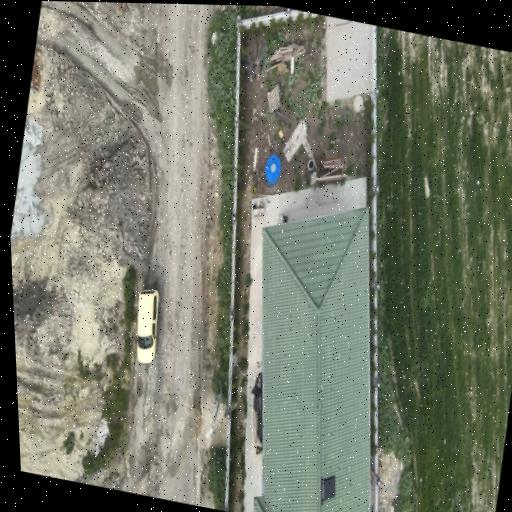car: (136, 289, 158, 362)
